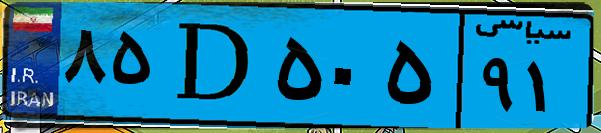0: (330, 28, 385, 110)
1: (525, 38, 570, 115)
5: (270, 28, 330, 110), (385, 28, 445, 110), (110, 28, 158, 98)
8: (57, 26, 110, 100)
9: (475, 38, 525, 113)
D: (158, 12, 270, 120)
